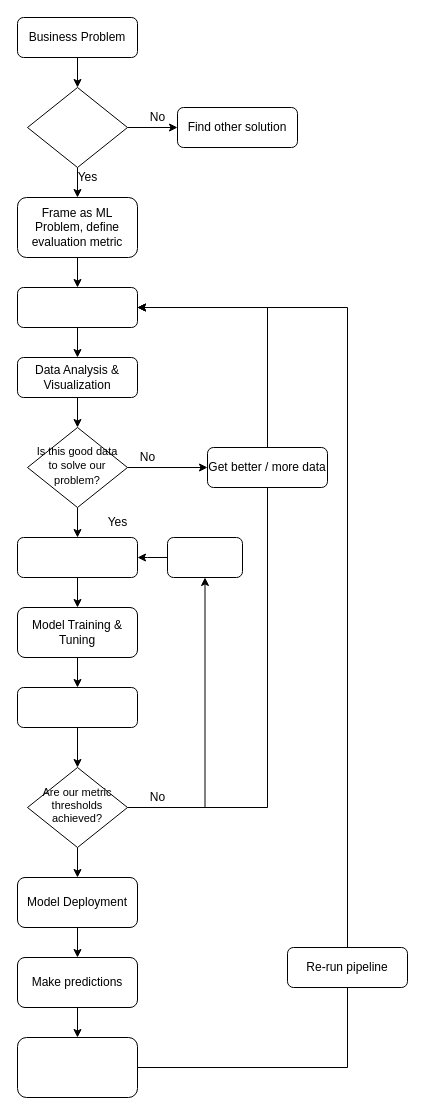
Some shapes in this 425 by 1115 pixel diagram are drawn without their labels. Here are the shapes that lost their labels. From the top down, the centre of each, then its label:
At pixel 77 127: "Should we solve this with ML?".
At pixel 77 307: "Collect, get, prepare, clean Data".
At pixel 77 557: "Feature Engineering".
At pixel 204 557: "Data/Feature Augmentation".
At pixel 77 707: "Model Evaluation".
At pixel 77 1067: "Monitor for anomalies, problems like data drift, etc".
